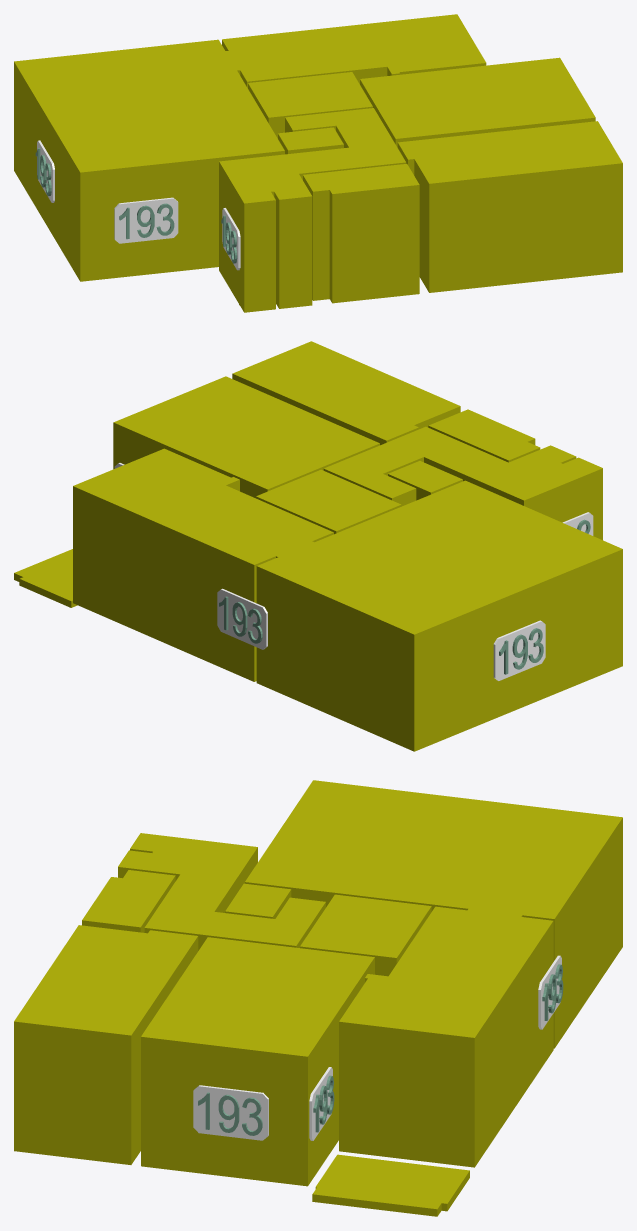
The picture shows the model from 3 angles, top to bottom: view 1: azimuth 30°, elevation 25°; view 2: azimuth 150°, elevation 25°; view 3: azimuth 270°, elevation 25°; orthographic projection. The views are drawn at different scales.
Visible parts, largest first — view 1: g_1, g_4, g_7, g_5, g_3, g_0, g_2, g_16, g_6, g_24, g_32; view 2: g_1, g_0, g_3, g_7, g_4, g_2, g_5, g_8, g_32, g_12, g_6; view 3: g_1, g_0, g_3, g_4, g_7, g_8, g_2, g_5, g_28, g_6, g_20, g_12.
Part boxes in pixels (<box>): g_1: <box>14,39,284,281</box>; g_4: <box>397,121,622,292</box>; g_7: <box>219,108,406,312</box>; g_5: <box>303,164,419,303</box>; g_3: <box>360,57,595,147</box>; g_0: <box>222,14,486,88</box>; g_2: <box>248,72,372,138</box>; g_16: <box>114,197,178,243</box>; g_6: <box>278,127,343,154</box>; g_24: <box>222,208,240,270</box>; g_32: <box>37,140,54,202</box>; g_1: <box>256,480,622,751</box>; g_0: <box>73,448,333,681</box>; g_3: <box>113,376,379,498</box>; g_7: <box>323,426,602,540</box>; g_4: <box>232,341,460,445</box>; g_2: <box>256,469,401,534</box>; g_5: <box>428,409,540,462</box>; g_8: <box>14,549,77,607</box>; g_32: <box>493,620,545,680</box>; g_12: <box>217,588,267,649</box>; g_6: <box>388,461,462,500</box>; g_1: <box>245,780,622,1048</box>; g_0: <box>339,906,553,1167</box>; g_3: <box>141,937,374,1186</box>; g_4: <box>14,925,198,1164</box>; g_7: <box>118,833,325,950</box>; g_8: <box>312,1154,469,1216</box>; g_2: <box>300,894,431,976</box>; g_5: <box>82,870,175,932</box>; g_28: <box>193,1085,268,1140</box>; g_6: <box>225,883,291,918</box>; g_20: <box>309,1067,332,1140</box>; g_12: <box>538,955,561,1029</box>.
Bounding box in the file's own units: 12.73 × 2.74 × 10.96.
